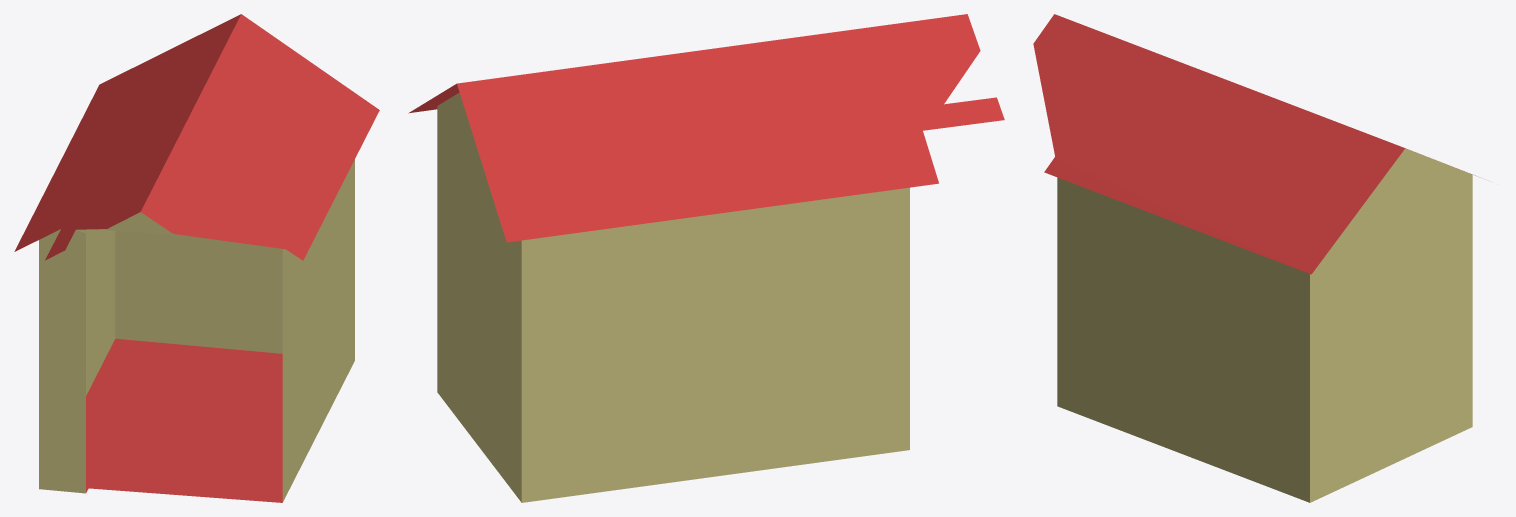
3 views of the same model, side by side, from view 1: azimuth 30°, elevation 25°; view 2: azimuth 150°, elevation 25°; view 3: azimuth 270°, elevation 25° (orthographic). The views are drawn at different scales.
Size of the model in its own units: 18.05 by 17.07 by 13.
